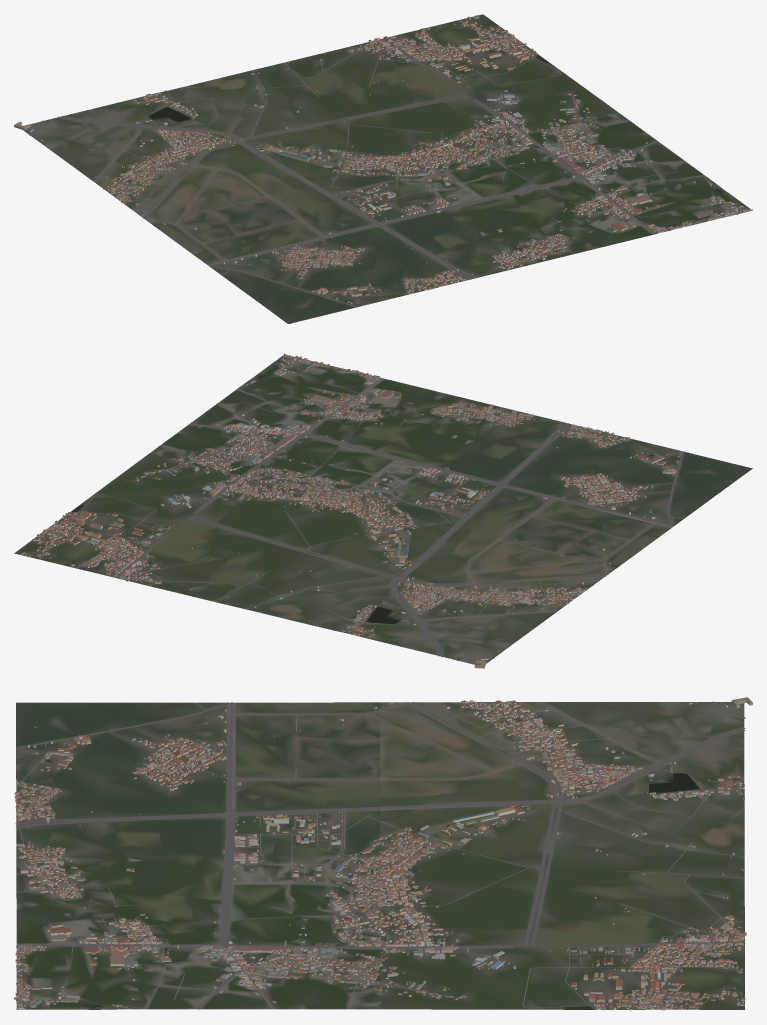
3 renders of one model, top to bottom at view 1: azimuth 30°, elevation 25°; view 2: azimuth 150°, elevation 25°; view 3: azimuth 270°, elevation 25°, orthographic. The views are drawn at different scales.
Parts seen in each view (by area): view 1: ground, buildings, roads; view 2: ground, buildings, roads; view 3: ground, buildings, roads, water.
Part boxes in pixels (x1,y1,x2,y2): ground: (22, 14, 751, 323); buildings: (14, 15, 752, 309); roads: (29, 23, 751, 307); ground: (14, 355, 752, 665); buildings: (20, 353, 708, 668); roads: (35, 356, 686, 660); ground: (16, 702, 744, 1009); buildings: (14, 697, 752, 1010); roads: (15, 701, 745, 1009); water: (46, 757, 699, 1009).
Size of the model in its own units: 2823 by 23.79 by 2845.
